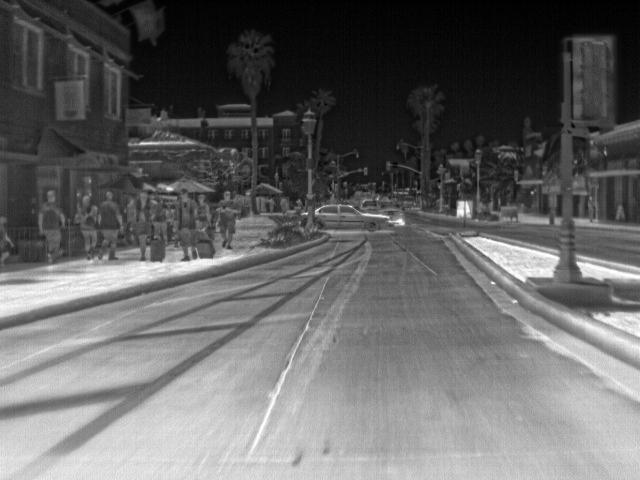car: (315, 204, 392, 234), (378, 207, 406, 227)
person: (35, 190, 66, 264), (95, 192, 126, 260), (176, 190, 205, 258), (75, 193, 99, 264), (135, 191, 156, 262), (217, 192, 239, 250), (192, 194, 212, 238), (1, 215, 16, 265), (584, 194, 598, 223)
